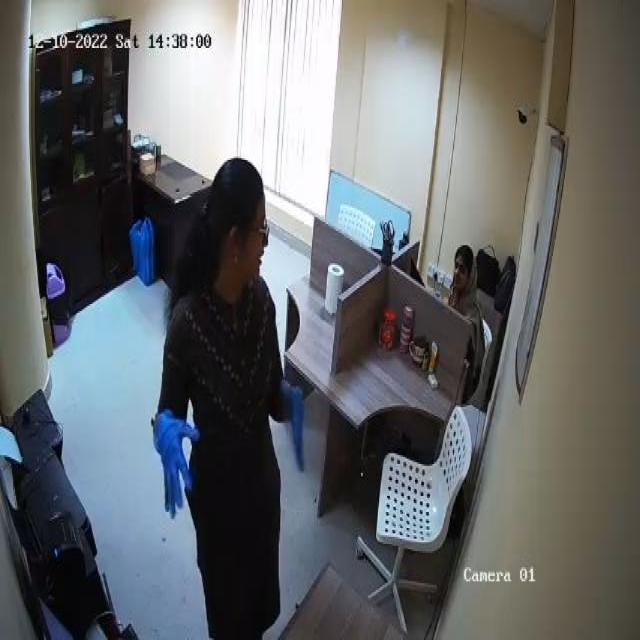gloved_hand: (153, 412, 200, 519), (286, 384, 307, 469)
